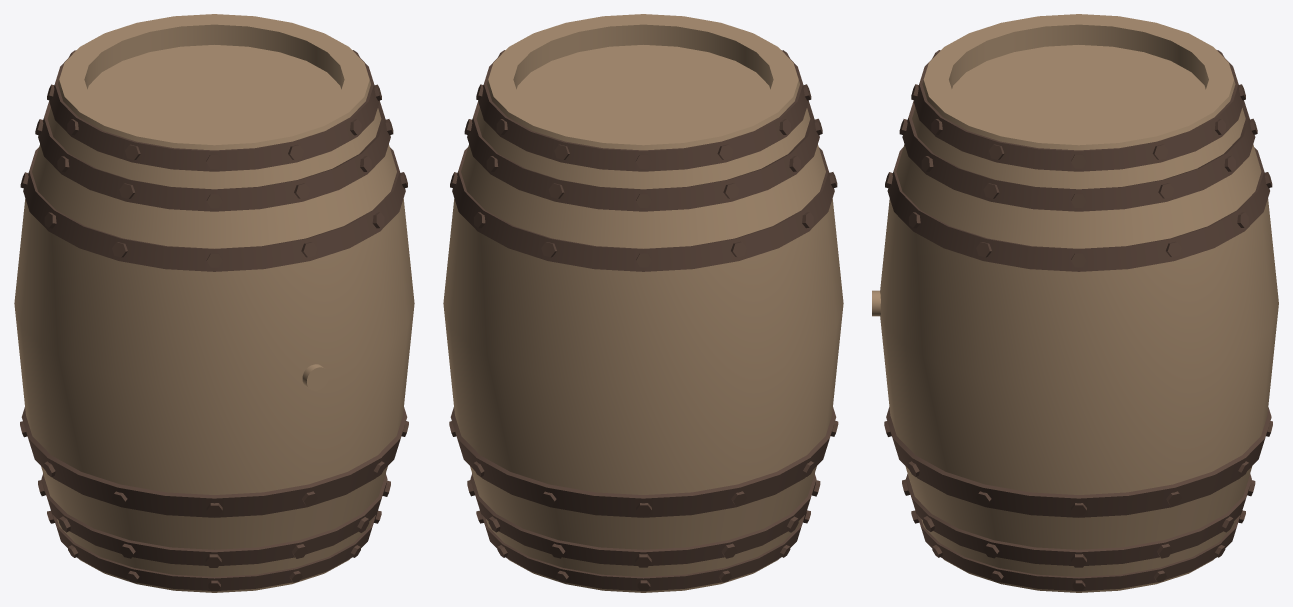
The model's file is Barrel.fbx.
3 views of the same model, side by side, from view 1: azimuth 30°, elevation 25°; view 2: azimuth 150°, elevation 25°; view 3: azimuth 270°, elevation 25° (orthographic).
Parts seen in each view (by area): view 1: Barrel; view 2: Barrel; view 3: Barrel.
Boxes of the visible parts, x1,y1,x2,y2 form: Barrel: [14, 14, 414, 592]; Barrel: [443, 14, 843, 592]; Barrel: [872, 14, 1278, 592].
Bounding box in the file's own units: 146 × 180 × 148.
